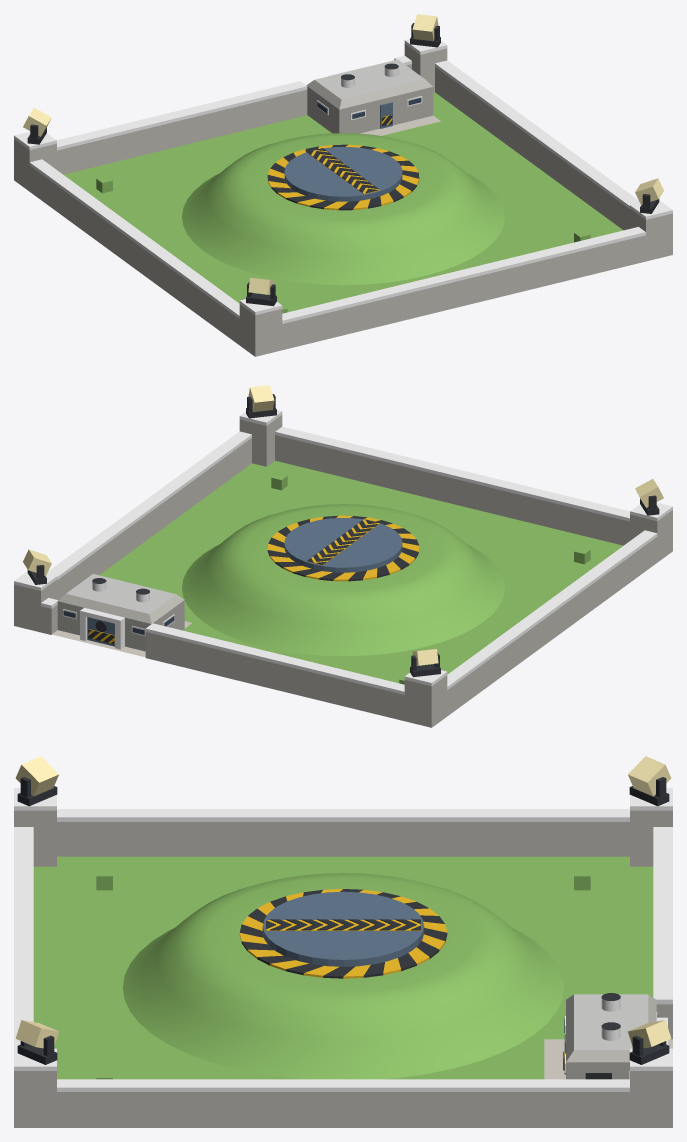
The model's file is atomsilo.glb.
3 renders of one model, top to bottom at view 1: azimuth 30°, elevation 25°; view 2: azimuth 150°, elevation 25°; view 3: azimuth 270°, elevation 25°, orthographic. The views are drawn at different scales.
Visible parts, largest first — view 1: hill, lawn (×4), perimeter_wall (×4), coping (×4), pier (×4), hatch (×2), wall, hazard_ring (×2), roof, chamfer, searchlight, paving; view 2: hill, lawn (×4), perimeter_wall (×4), coping (×4), pier (×4), hatch (×2), hazard_ring (×2), roof, wall, chamfer, searchlight; view 3: lawn (×3), hill, perimeter_wall (×2), coping (×4), pier (×4), hatch (×2), hazard_ring (×2), searchlight (×4), roof, hazard_stripe (×2), chamfer, wall (+1 smaller).
Boxes of the visible parts, x1,y1,x2,y2 form: hill: [182, 133, 504, 285]; lawn (×4): [64, 92, 623, 312]; perimeter_wall (×4): [29, 67, 645, 350]; coping (×4): [29, 60, 645, 323]; pier (×4): [14, 44, 672, 356]; hatch (×2): [284, 147, 402, 201]; wall: [307, 86, 433, 133]; hazard_ring (×2): [267, 144, 419, 210]; roof: [315, 59, 424, 99]; chamfer: [306, 79, 432, 109]; searchlight: [412, 14, 438, 40]; paving: [360, 115, 440, 135]; hill: [182, 504, 504, 656]; lawn (×4): [99, 460, 622, 683]; perimeter_wall (×4): [57, 435, 657, 721]; coping (×4): [47, 426, 657, 694]; pier (×4): [14, 415, 672, 727]; hatch (×2): [284, 518, 402, 572]; hazard_ring (×2): [267, 515, 419, 581]; roof: [66, 574, 176, 613]; wall: [57, 600, 184, 651]; chamfer: [58, 594, 184, 623]; searchlight: [248, 385, 274, 411]; lawn (×3): [33, 856, 653, 1079]; hill: [122, 873, 564, 1079]; perimeter_wall (×2): [57, 822, 629, 1127]; coping (×4): [14, 809, 672, 1091]; pier (×4): [14, 810, 672, 1127]; hatch (×2): [262, 891, 424, 966]; hazard_ring (×2): [239, 889, 447, 978]; searchlight (×4): [15, 756, 671, 1048]; roof: [574, 994, 648, 1049]; hazard_stripe (×2): [266, 919, 420, 930]; chamfer: [566, 994, 656, 1062]; wall: [566, 1062, 629, 1079].
Size of the model in its own units: 40 by 6.45 by 40.
